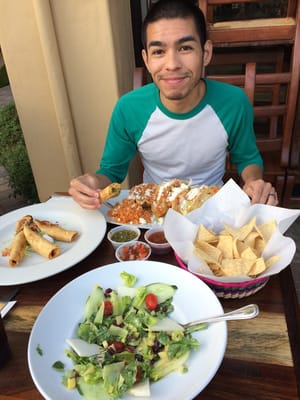pizza: (107, 224, 142, 262)
salad: (173, 304, 260, 330)
sushi: (44, 259, 227, 400), (144, 226, 171, 255)
